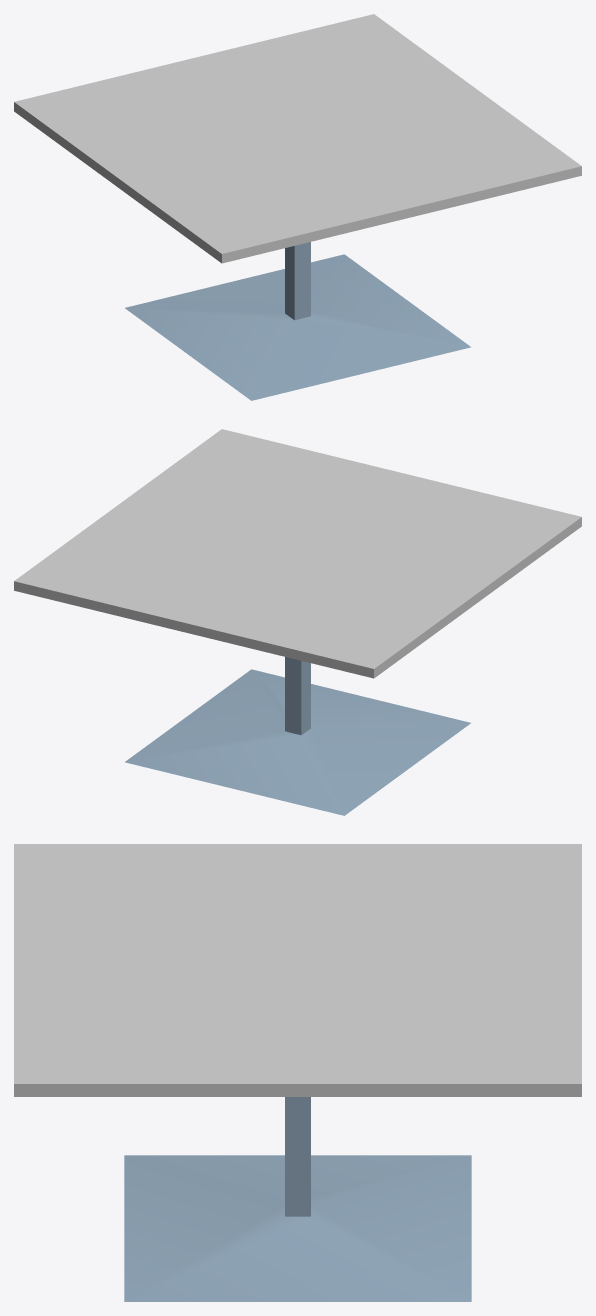
The model's file is cafe_table_small.dae.
3 views of the same model, one above another, from view 1: azimuth 30°, elevation 25°; view 2: azimuth 150°, elevation 25°; view 3: azimuth 270°, elevation 25° (orthographic). The views are drawn at different scales.
Visible parts, largest first — view 1: Top_Square_004, SketchUp, Top_Square_003; view 2: Top_Square_004, SketchUp, Top_Square_003; view 3: Top_Square_004, SketchUp, Top_Square_003.
Part boxes in pixels (x1=…): Top_Square_004: x1=14, y1=14, x2=581, y2=253; SketchUp: x1=125, y1=242, x2=470, y2=400; Top_Square_003: x1=14, y1=102, x2=581, y2=263; Top_Square_004: x1=14, y1=429, x2=581, y2=668; SketchUp: x1=125, y1=657, x2=470, y2=815; Top_Square_003: x1=14, y1=517, x2=581, y2=678; Top_Square_004: x1=14, y1=844, x2=581, y2=1083; SketchUp: x1=124, y1=1097, x2=471, y2=1301; Top_Square_003: x1=14, y1=1084, x2=581, y2=1096.
Size of the model in its own units: 0.9144 by 0.9144 by 0.4697.
